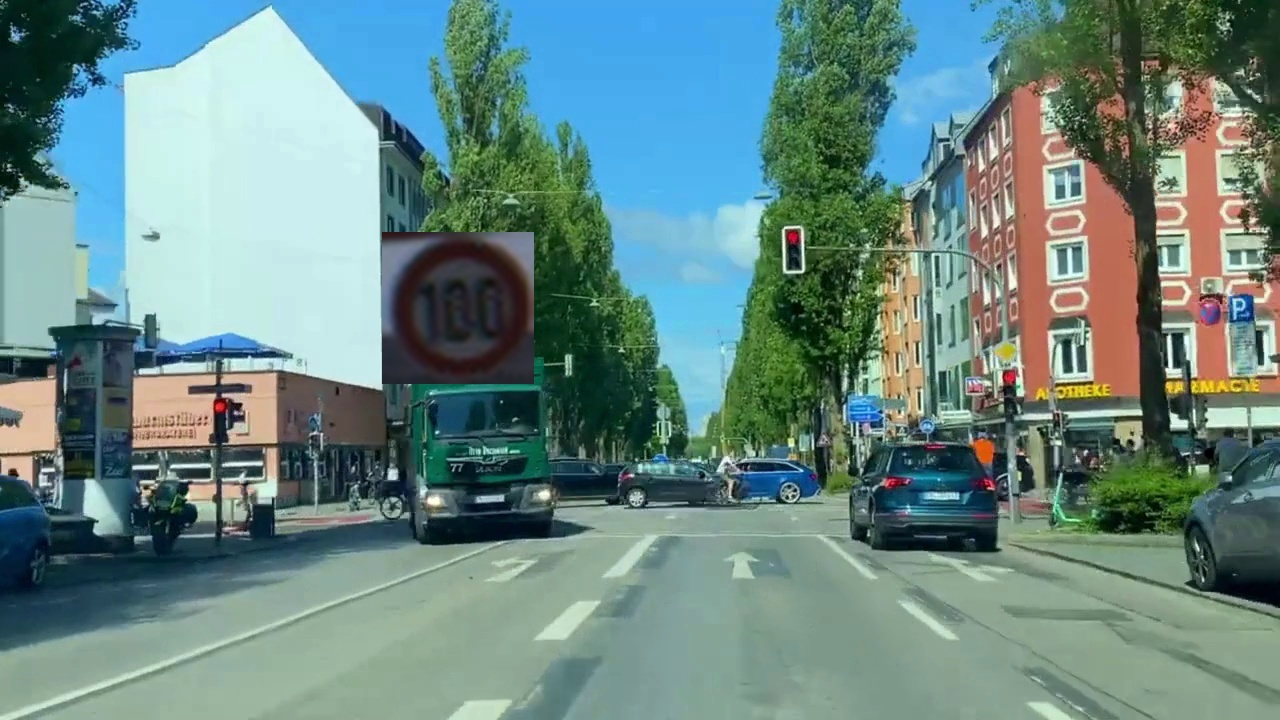Speed 100: (382, 232, 534, 384)
